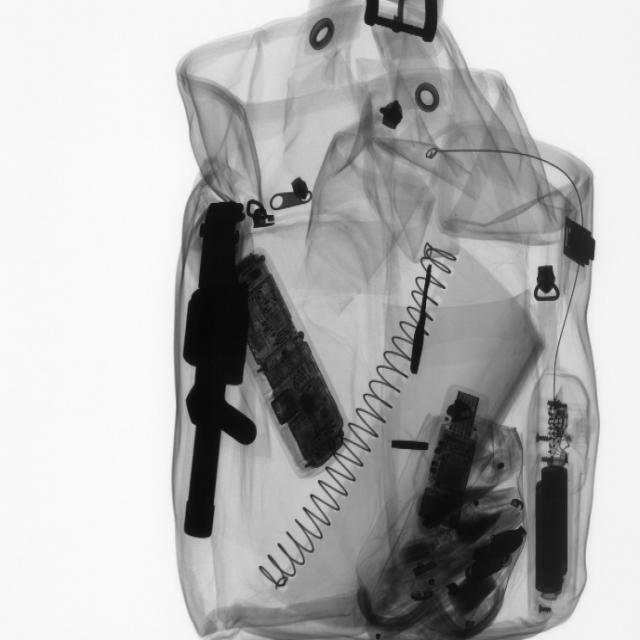GUN: (170, 193, 256, 545)
